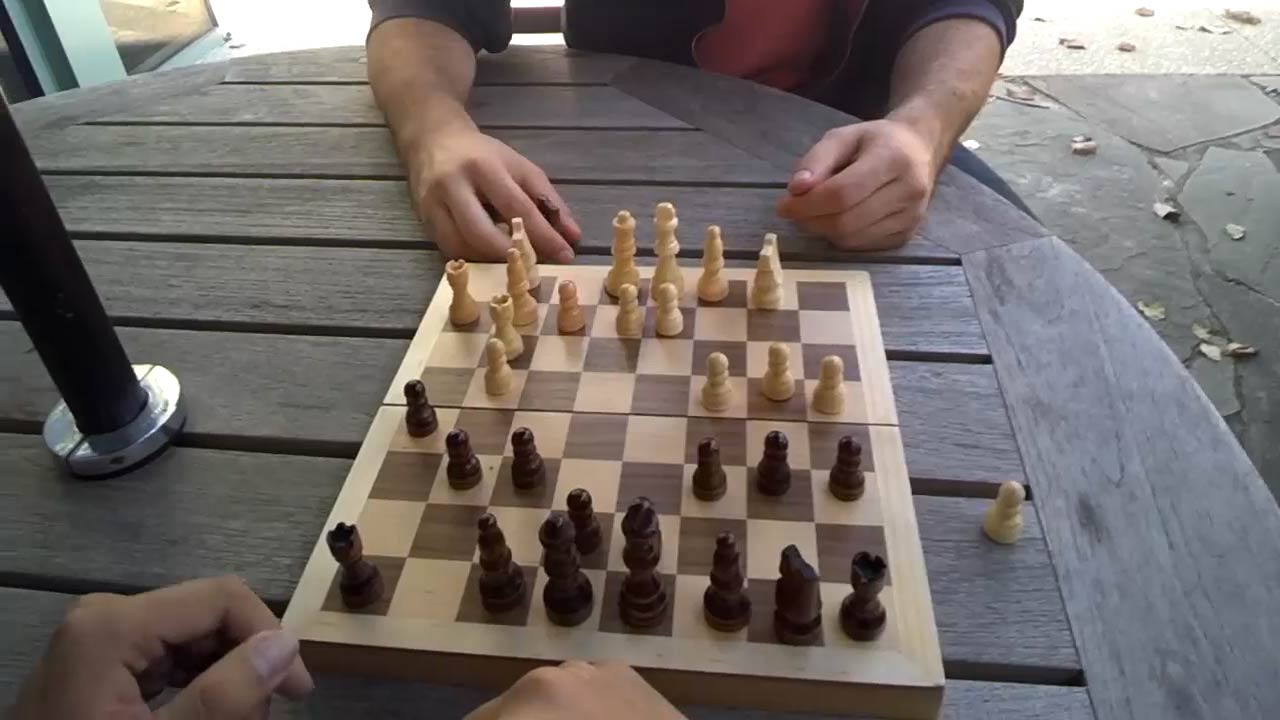hand: (9, 576, 314, 717), (405, 127, 580, 259), (780, 118, 937, 245), (462, 658, 682, 717)
